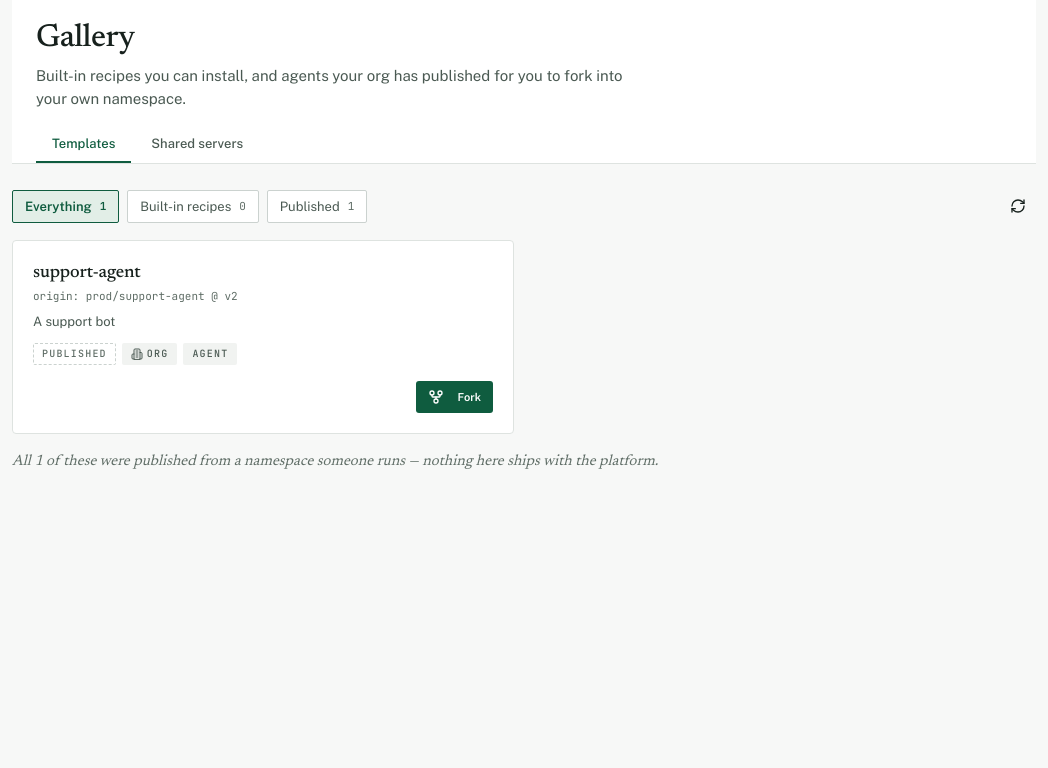
it: TemplateGalleryPage — templates tab › shows an honest 404 error when the fork API returns not-found
The image size is (1048, 768).
Click the button "Fork" at (454, 397), box [416,381,493,413]
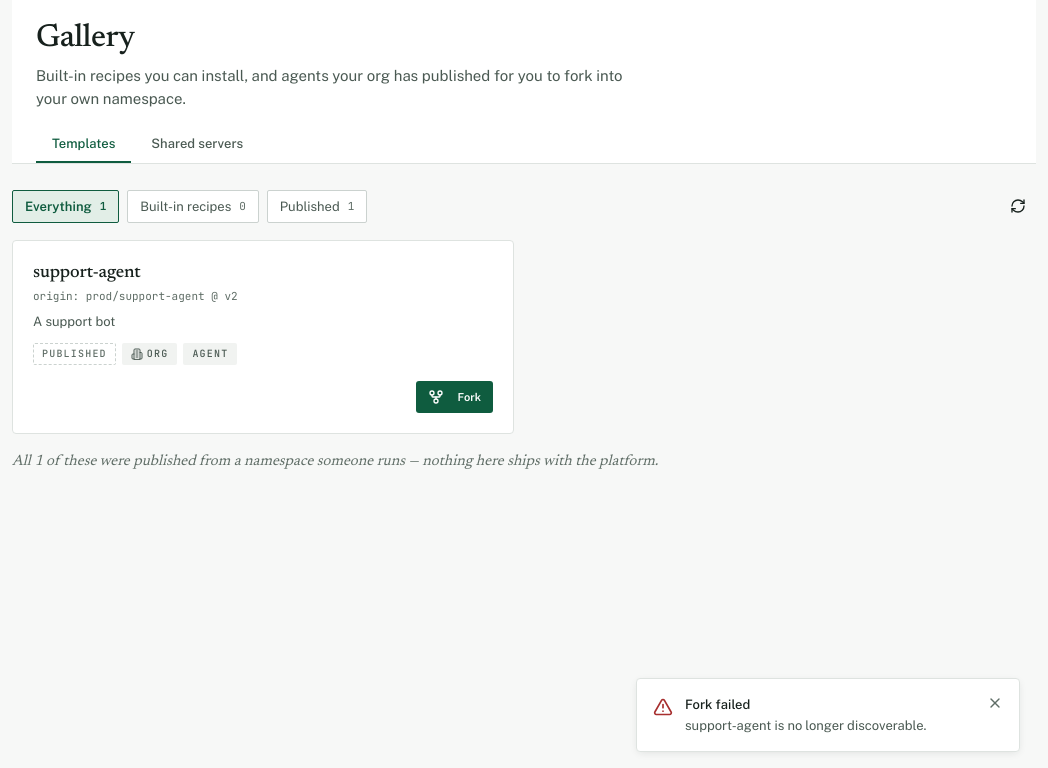
Check: the text "Fork failed" is shown, box [685,697,750,712]
Check: the text "support-agent is no longer discoverable." is shown, box [685,718,926,733]
